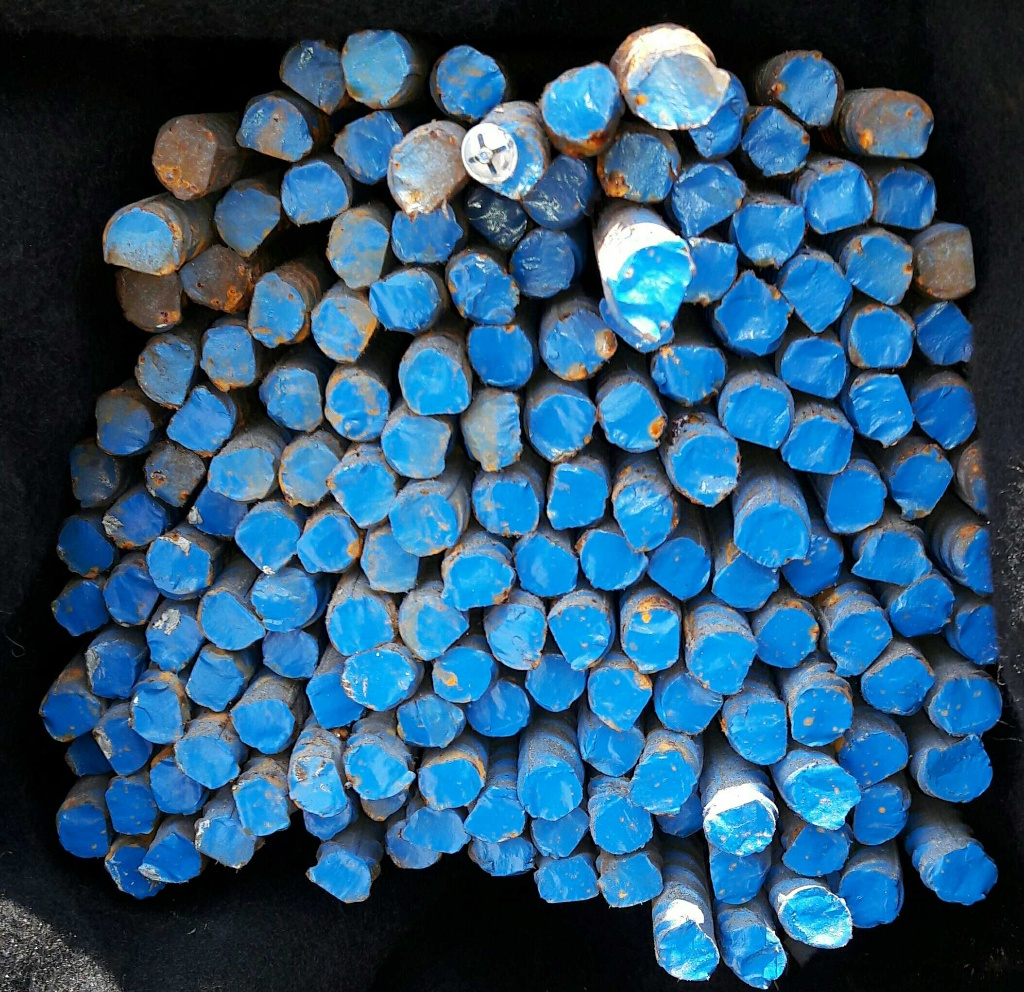dipstick: (625, 52, 725, 128), (615, 246, 690, 328), (389, 128, 461, 213), (716, 273, 790, 354), (542, 64, 620, 138), (674, 162, 745, 237), (152, 118, 216, 200), (690, 66, 746, 159), (523, 156, 594, 228), (544, 309, 616, 379), (236, 97, 313, 162), (783, 259, 851, 332), (859, 90, 933, 157), (596, 134, 671, 200), (508, 228, 576, 300), (280, 40, 345, 115), (846, 235, 913, 307), (671, 435, 739, 505), (336, 111, 403, 182), (599, 382, 666, 453), (438, 47, 504, 118), (805, 166, 874, 233), (452, 255, 518, 325), (342, 30, 405, 103), (465, 389, 521, 471), (105, 209, 176, 273), (112, 267, 182, 331), (737, 504, 808, 567), (613, 479, 675, 551), (776, 54, 838, 126), (327, 214, 388, 287), (732, 204, 806, 264), (401, 594, 468, 660), (166, 388, 231, 456), (183, 246, 252, 310), (781, 885, 850, 949), (915, 227, 976, 299), (530, 395, 596, 461), (217, 188, 281, 256), (382, 415, 451, 478), (852, 376, 913, 447), (651, 345, 725, 403), (403, 349, 469, 414), (372, 268, 439, 332), (389, 492, 458, 554), (690, 631, 755, 696), (251, 567, 318, 630), (548, 601, 611, 668), (745, 108, 808, 175), (197, 589, 266, 650), (725, 384, 789, 449), (329, 462, 395, 525), (343, 649, 411, 710), (864, 654, 933, 714), (259, 368, 323, 432), (325, 376, 389, 440), (794, 765, 858, 829), (235, 509, 298, 574), (313, 297, 376, 362), (483, 604, 546, 669), (858, 532, 931, 588), (467, 324, 531, 387), (782, 417, 854, 473), (926, 739, 992, 800), (281, 163, 348, 223), (782, 530, 842, 597), (931, 678, 1002, 734), (146, 538, 210, 600), (647, 537, 710, 599), (781, 338, 846, 398), (250, 275, 305, 345), (703, 800, 774, 854), (136, 338, 194, 404), (581, 530, 647, 588), (590, 671, 652, 732), (915, 387, 977, 448), (328, 597, 393, 655), (144, 445, 205, 506), (515, 536, 577, 596), (891, 455, 953, 515), (829, 611, 891, 671), (728, 700, 787, 763), (756, 609, 819, 668), (826, 469, 885, 532), (393, 206, 458, 263), (547, 466, 607, 527), (875, 169, 935, 230), (791, 688, 853, 747), (890, 577, 953, 635), (849, 310, 913, 367), (662, 673, 722, 733), (289, 756, 347, 818), (282, 443, 339, 506), (934, 847, 997, 904), (838, 732, 907, 784), (713, 554, 778, 609), (445, 554, 512, 607), (473, 481, 539, 534), (93, 717, 153, 775), (186, 649, 242, 711), (345, 742, 407, 798), (201, 325, 254, 390), (229, 700, 294, 753), (684, 238, 737, 303), (526, 654, 586, 711), (592, 795, 652, 852), (522, 764, 583, 820), (128, 680, 183, 742), (296, 515, 358, 570), (466, 681, 529, 735), (209, 447, 274, 499), (916, 303, 974, 361), (632, 759, 691, 816), (840, 869, 899, 926), (95, 394, 151, 454), (782, 824, 849, 874), (732, 926, 786, 988), (175, 737, 239, 789), (399, 695, 464, 746), (57, 519, 115, 576), (361, 532, 417, 591), (599, 854, 662, 906), (232, 777, 289, 834), (432, 646, 490, 702), (104, 565, 159, 624), (854, 785, 909, 844), (104, 845, 165, 898), (51, 581, 110, 635), (105, 494, 165, 547), (418, 759, 481, 809), (146, 613, 202, 669), (661, 923, 717, 979), (585, 725, 644, 778), (625, 610, 678, 669), (307, 674, 363, 729), (151, 757, 208, 811), (69, 447, 121, 506), (41, 691, 100, 742), (195, 817, 254, 868), (529, 809, 590, 858), (709, 851, 766, 903), (312, 852, 370, 903), (139, 833, 199, 881), (86, 641, 134, 699), (535, 858, 598, 902), (57, 805, 110, 857), (106, 780, 156, 834), (264, 629, 318, 679), (386, 820, 440, 868), (468, 837, 535, 875), (408, 809, 464, 854), (464, 800, 525, 841), (958, 606, 999, 664), (65, 739, 114, 774)
